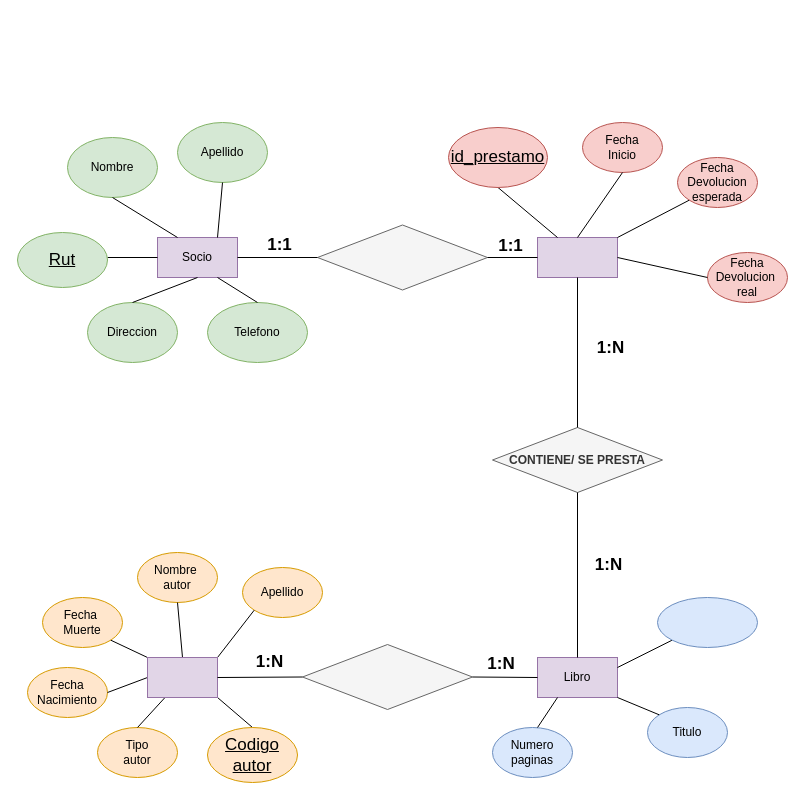
Image size: 805x800. Some labels were removed from this diagram. The shapes that lost their labels are listed below. From the top down, each one's centre as x and y in pixels, then its label:
At (x=402, y=257): "SOLICITA/REGISTRA".
At (x=577, y=257): "Prestamo".
At (x=707, y=622): "ISBN".
At (x=182, y=677): "Autor".
At (x=387, y=677): "ESCRIBE/PERTENECE A".
